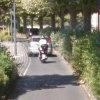Motorcycle: (32, 41, 55, 65)
